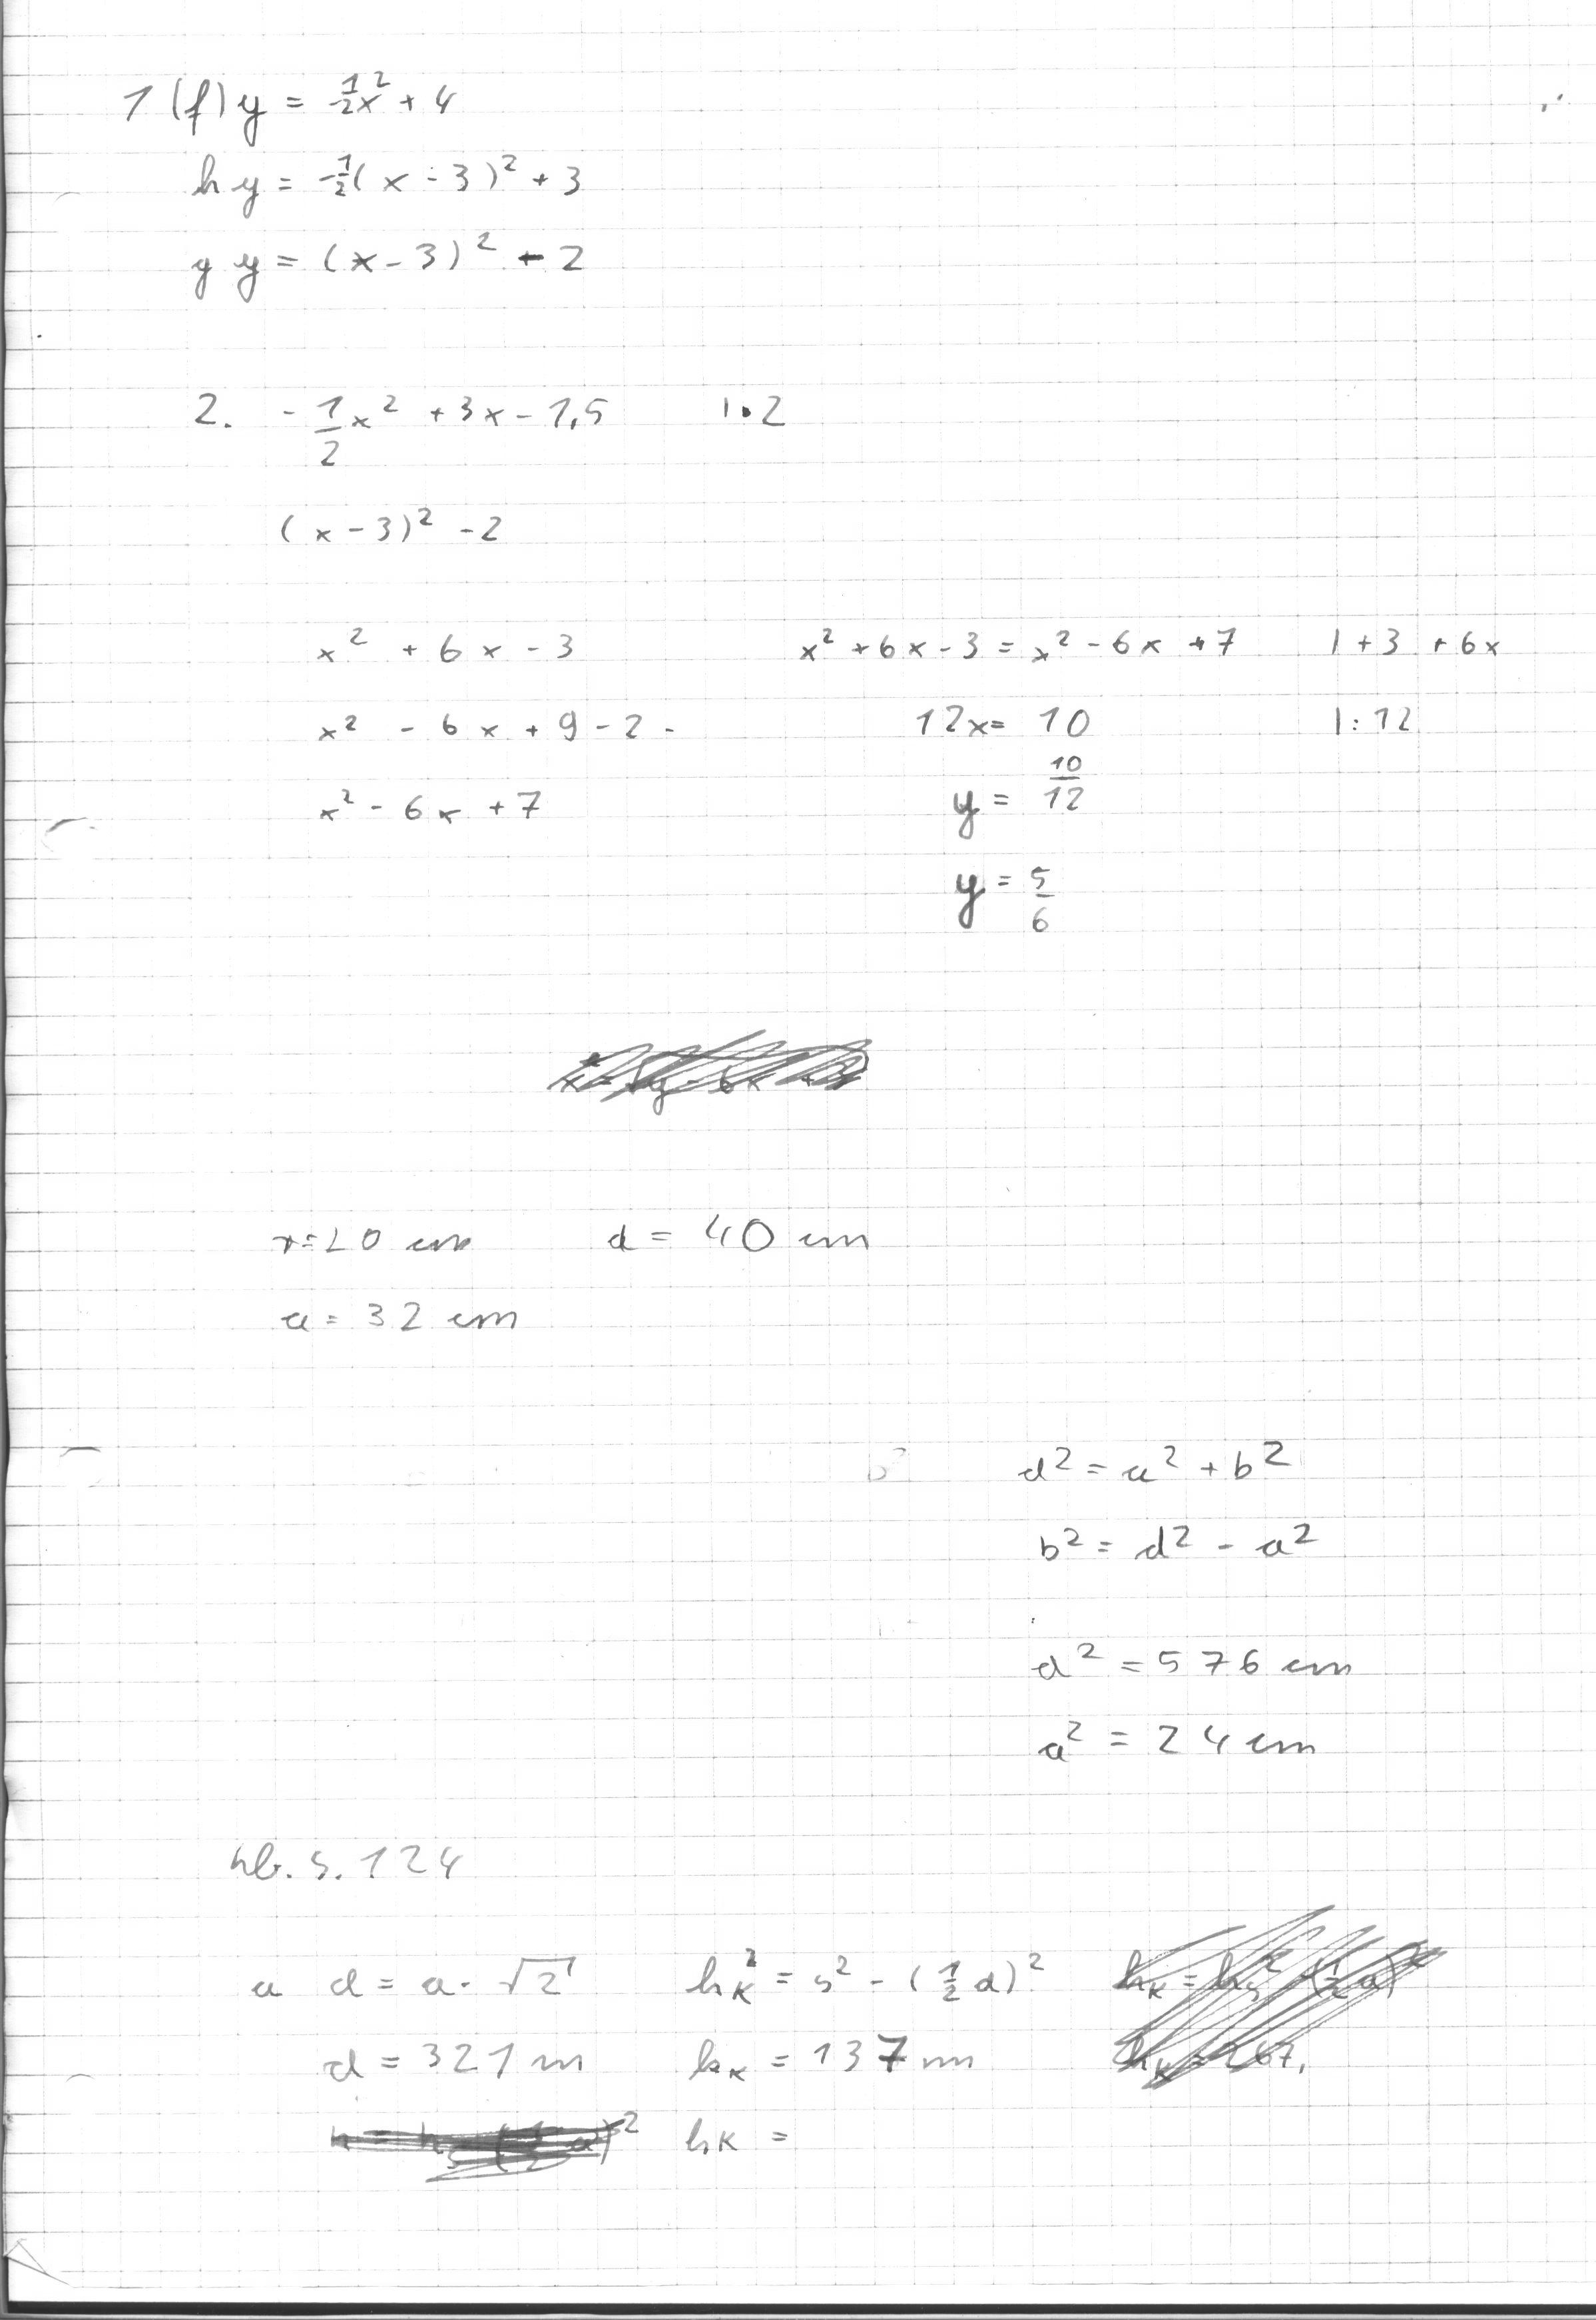word: (164, 57, 606, 312), (291, 604, 688, 845), (665, 1939, 1048, 2088), (164, 366, 629, 480), (1014, 1623, 1358, 1776), (1005, 1422, 1329, 1577), (314, 1938, 595, 2092), (255, 1205, 531, 1348), (784, 607, 1250, 680), (898, 687, 1096, 851), (1313, 609, 1514, 752), (583, 1186, 892, 1271), (266, 477, 547, 572), (206, 1819, 483, 1908), (676, 356, 817, 461), (930, 855, 1076, 950), (665, 2100, 814, 2165), (232, 1961, 304, 2009)
